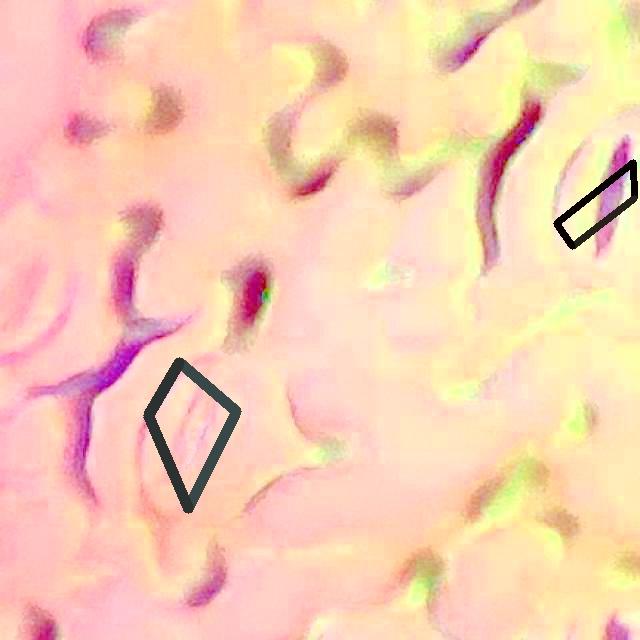open: (144, 358, 241, 512), (554, 159, 637, 248)
